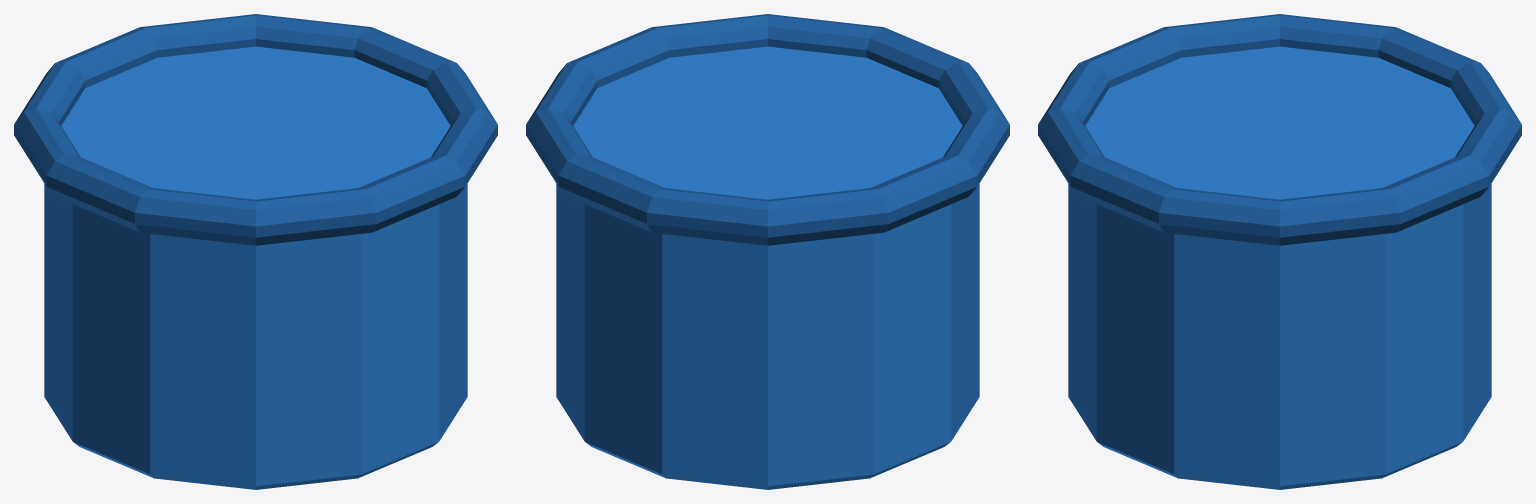
File: water_bucket.glb
3 views of the same model, side by side, from view 1: azimuth 30°, elevation 25°; view 2: azimuth 150°, elevation 25°; view 3: azimuth 270°, elevation 25° (orthographic).
Parts seen in each view (by area): view 1: water_bucket; view 2: water_bucket; view 3: water_bucket.
Boxes of the visible parts, x1,y1,x2,y2 form: water_bucket: (14, 14, 497, 489); water_bucket: (526, 14, 1009, 489); water_bucket: (1038, 14, 1521, 489).
Size of the model in its own units: 0.3201 by 0.2155 by 0.3201.
